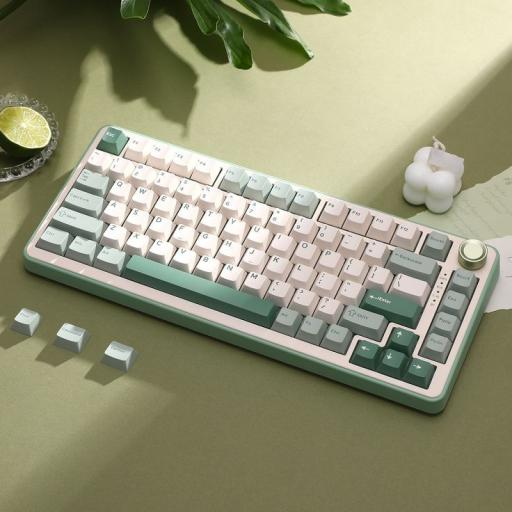KEYBOARD-2: (26, 127, 497, 412)
